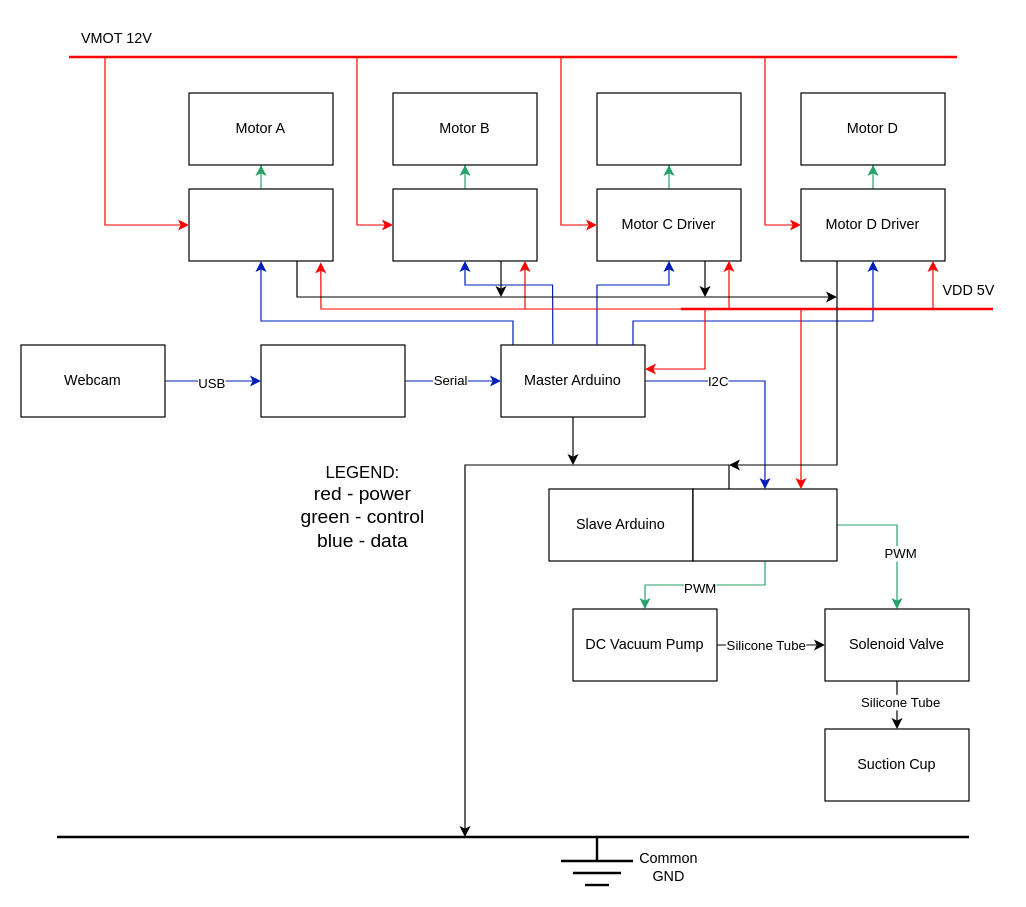
This 1026x907 diagram has some shape labels left out. The centre of each missing label's shape, as x and y in pixels:
Arduino Sensor Shield v5.0: the point at 764,524
Computer running Ubuntu (desktop or SBC): the point at 332,380
Motor A Driver: the point at 260,224
Motor B Driver: the point at 464,224
Motor C: the point at 668,128
